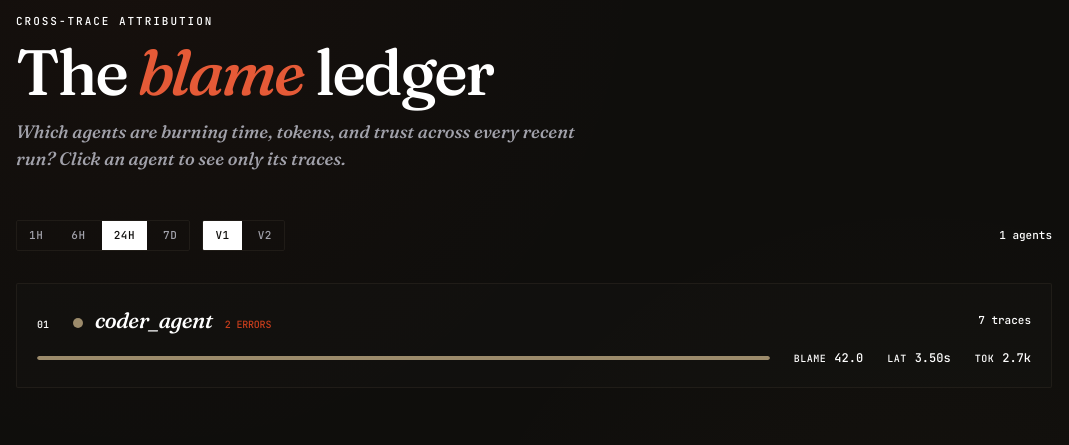
Scenario: BlamePage (post-rewrite + ENG-06 V2 surfacing) › renders V2 fields when V2 toggle clicked
Check: the text "coder_agent" is shown, box 95,304 -> 213,337
Click the button "v2". click: [265, 236]
box: 246,221 -> 284,250
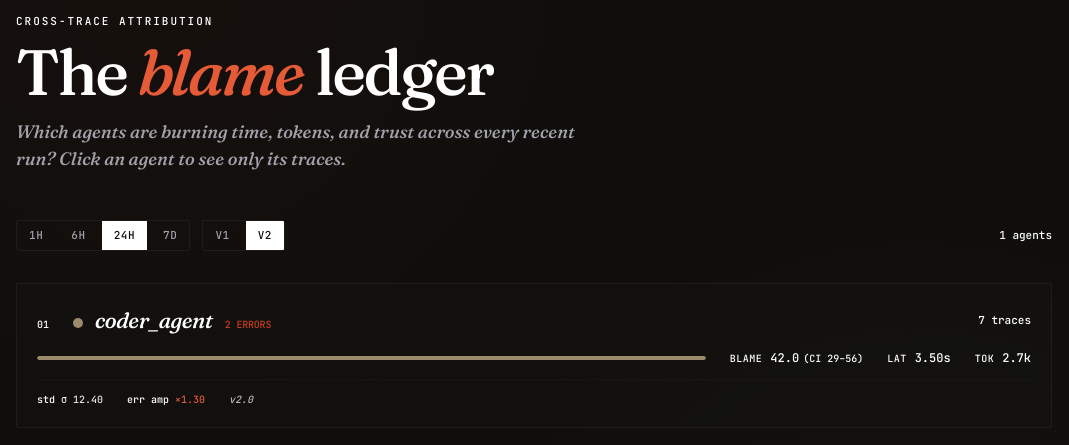
Check: the text "std σ 12.40" is shown, box 37,392 -> 103,407
Check: the text "err amp ×1.30" is shown, box 127,392 -> 205,407
